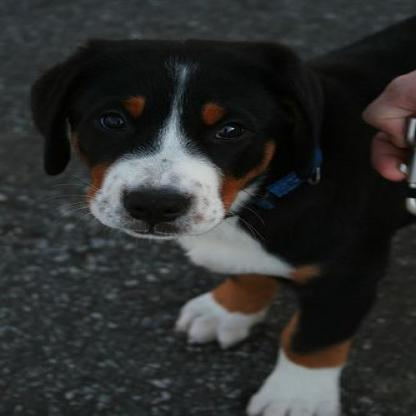Greater_Swiss_Mountain_dog: (24, 8, 412, 414)
